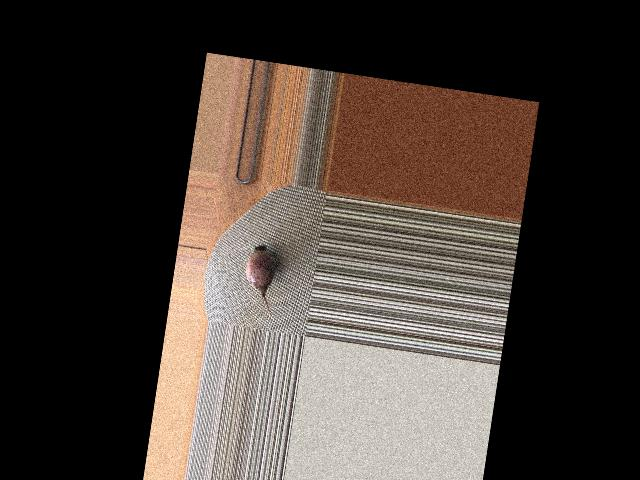beet: (239, 242, 285, 319)
